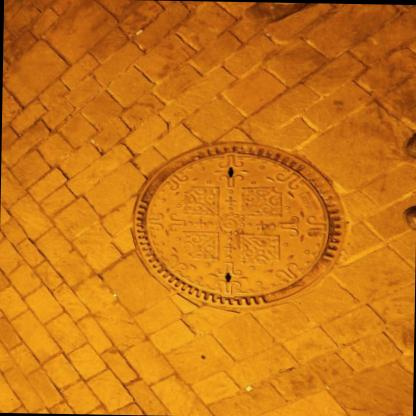manholes: (94, 102, 361, 328)
